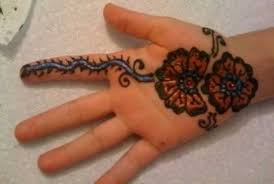hand: (8, 0, 246, 175)
